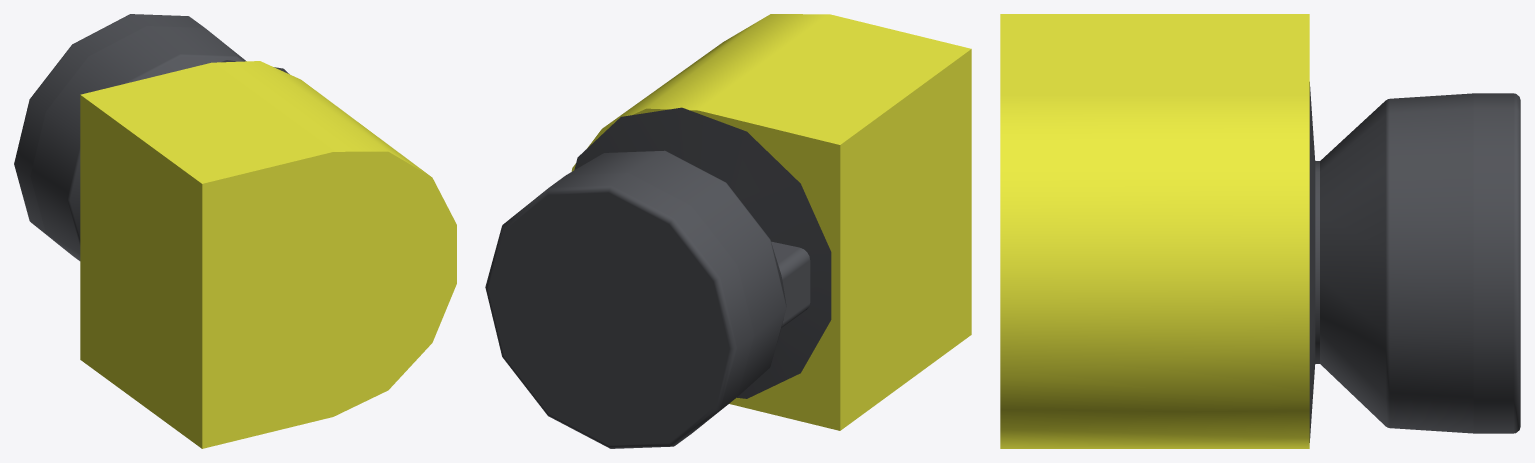
Rendered from SICK-MICROSCAN3.dae.
3 views of the same model, side by side, from view 1: azimuth 30°, elevation 25°; view 2: azimuth 150°, elevation 25°; view 3: azimuth 270°, elevation 25° (orthographic). The views are drawn at different scales.
Visible parts, largest first — view 1: MICS3-XBXXXXXXX_001; view 2: MICS3-XBXXXXXXX_001; view 3: MICS3-XBXXXXXXX_001.
Part boxes in pixels (<box>): MICS3-XBXXXXXXX_001: <box>14,14,456,448</box>; MICS3-XBXXXXXXX_001: <box>485,14,971,448</box>; MICS3-XBXXXXXXX_001: <box>1000,14,1520,448</box>.
Bounding box in the file's own units: 110 × 151 × 108.
